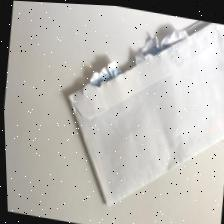paper: (43, 2, 224, 222)
